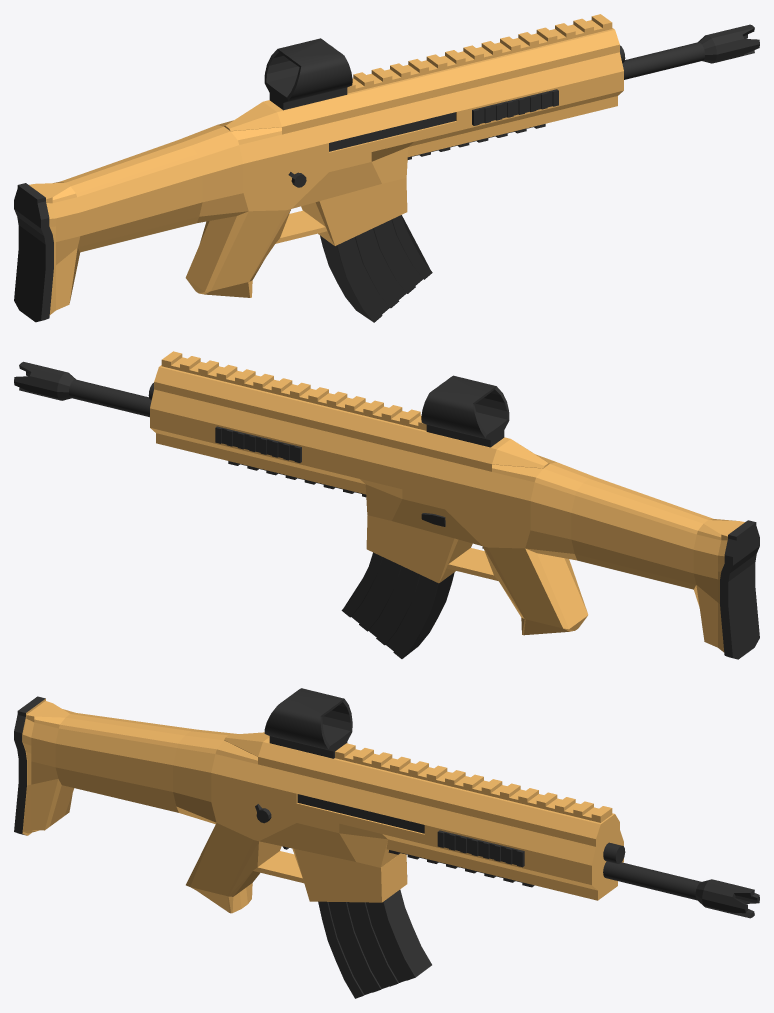
Rendered from Scar h.fbx.
3 renders of one model, top to bottom at view 1: azimuth 30°, elevation 25°; view 2: azimuth 150°, elevation 25°; view 3: azimuth 330°, elevation 25°, orthographic.
Parts seen in each view (by area): view 1: ScarH; view 2: ScarH; view 3: ScarH.
Part boxes in pixels (bbox=[...]): ScarH: bbox=[14, 14, 759, 322]; ScarH: bbox=[14, 351, 759, 659]; ScarH: bbox=[14, 688, 759, 998].
Bounding box in the file's own units: 30.64 × 11.19 × 2.7.
